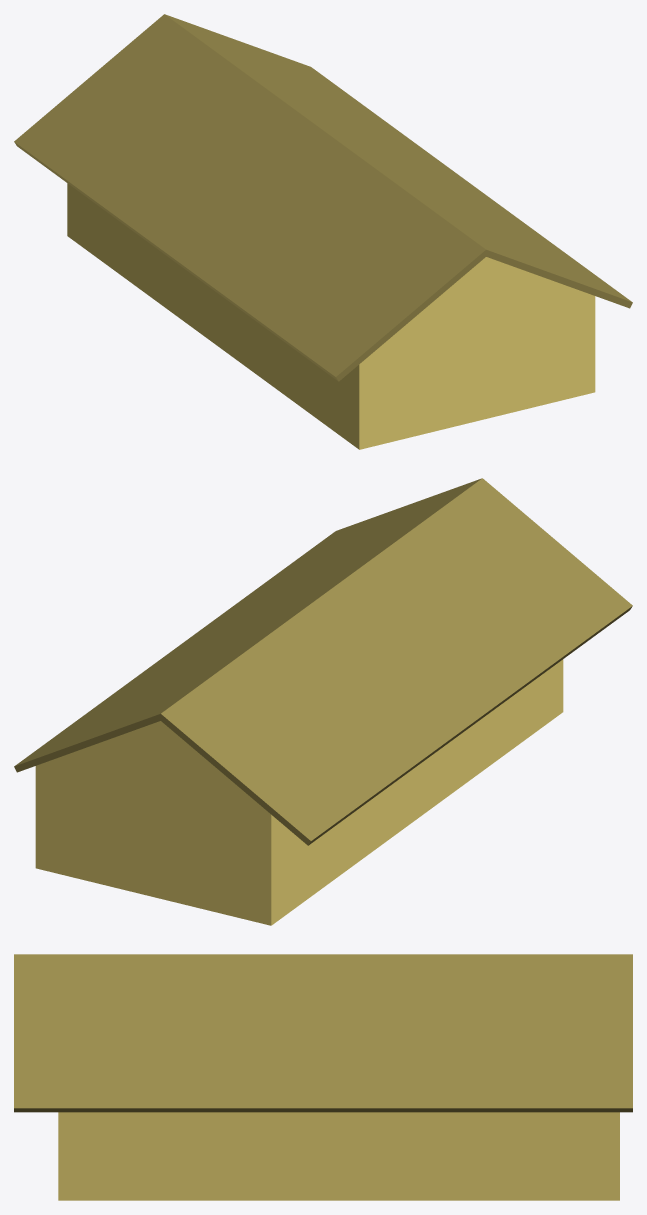
Rendered from result.glb.
3 views of the same model, one above another, from view 1: azimuth 30°, elevation 25°; view 2: azimuth 150°, elevation 25°; view 3: azimuth 270°, elevation 25° (orthographic). The views are drawn at different scales.
Visible parts, largest first — view 1: 4a845f39-52a5-4904-a394-829f594c5985__undefined (×2), d9ca6465-9a6d-4ae7-be01-c049626cdbf6__undefined; view 2: 4a845f39-52a5-4904-a394-829f594c5985__undefined (×2), d9ca6465-9a6d-4ae7-be01-c049626cdbf6__undefined; view 3: 4a845f39-52a5-4904-a394-829f594c5985__undefined, d9ca6465-9a6d-4ae7-be01-c049626cdbf6__undefined.
Part boxes in pixels (<box>): 4a845f39-52a5-4904-a394-829f594c5985__undefined (×2): <box>14,14,632,381</box>; d9ca6465-9a6d-4ae7-be01-c049626cdbf6__undefined: <box>67,183,595,449</box>; 4a845f39-52a5-4904-a394-829f594c5985__undefined (×2): <box>14,478,632,845</box>; d9ca6465-9a6d-4ae7-be01-c049626cdbf6__undefined: <box>35,659,563,925</box>; 4a845f39-52a5-4904-a394-829f594c5985__undefined: <box>14,954,632,1112</box>; d9ca6465-9a6d-4ae7-be01-c049626cdbf6__undefined: <box>58,1112,619,1200</box>.
Size of the model in its own units: 1258 by 776 by 2360.
